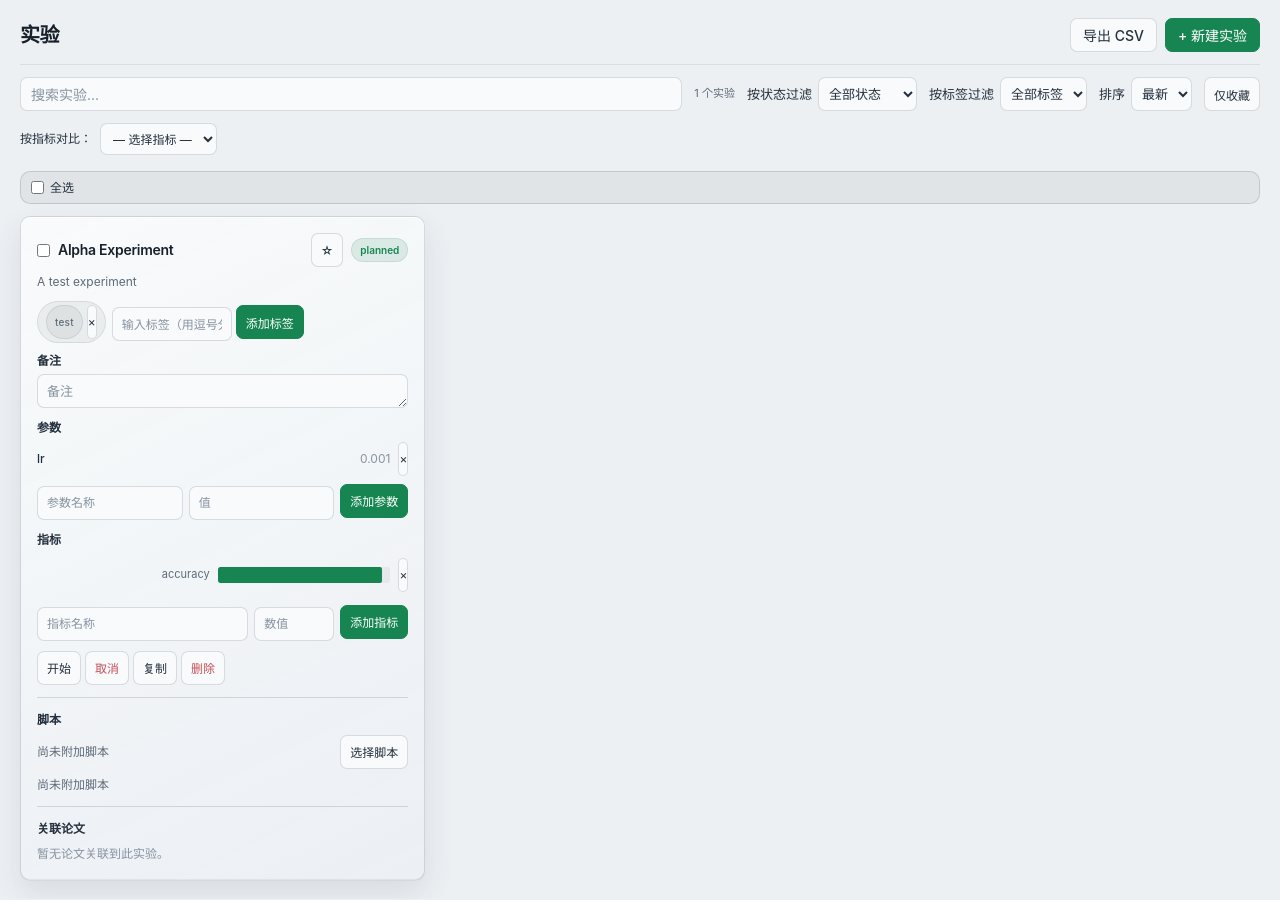
it: ExperimentsPage › should clear the experiments filters from the empty state
Type "ZZZ" into the field with placeholder "搜索实验...".
click(351, 94); type("ZZZ")  # box [20, 77, 682, 111]
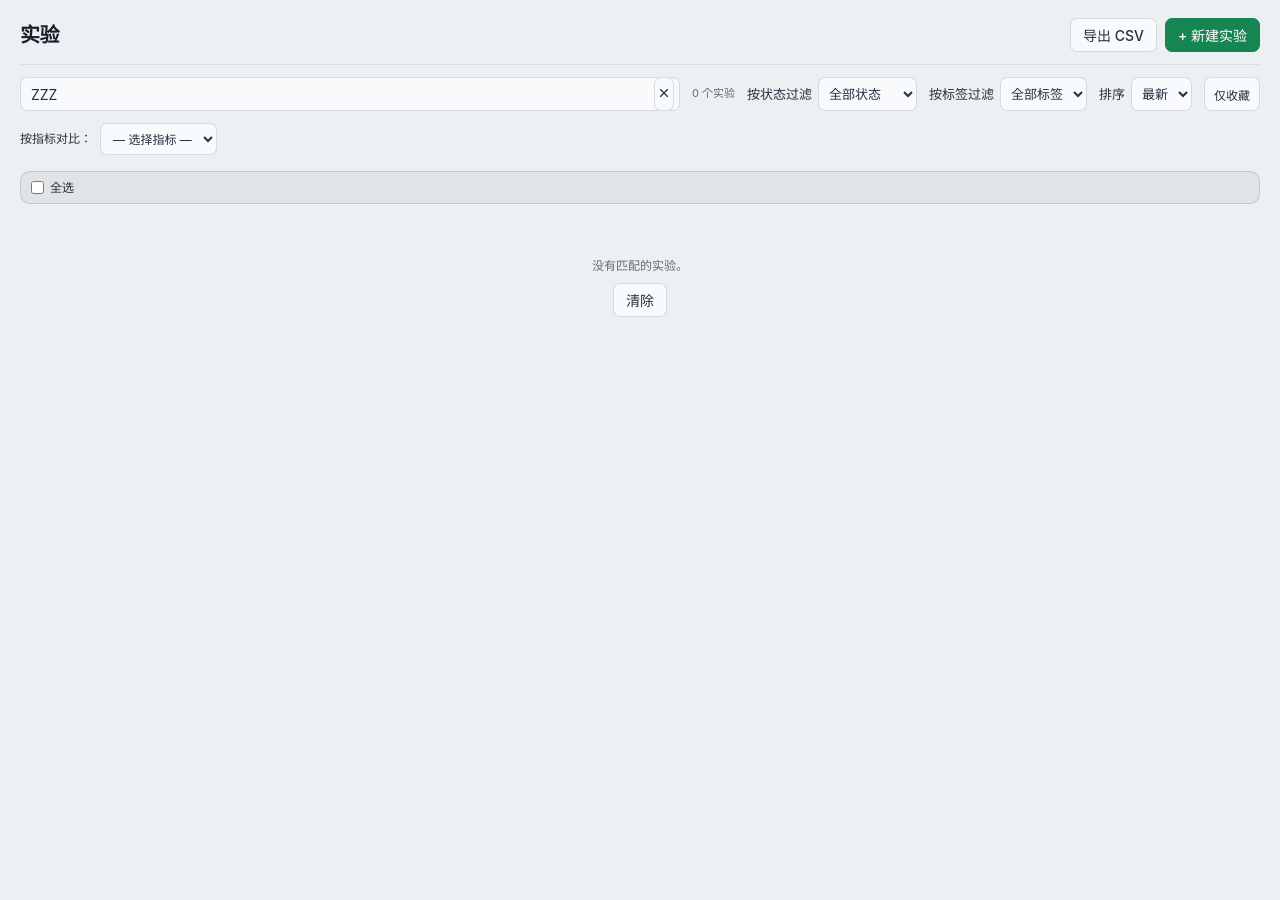
Now the text "没有匹配的实验。" is shown, box [592, 258, 688, 273]
Click the button "清除".
click(640, 300)  # box [613, 283, 667, 317]
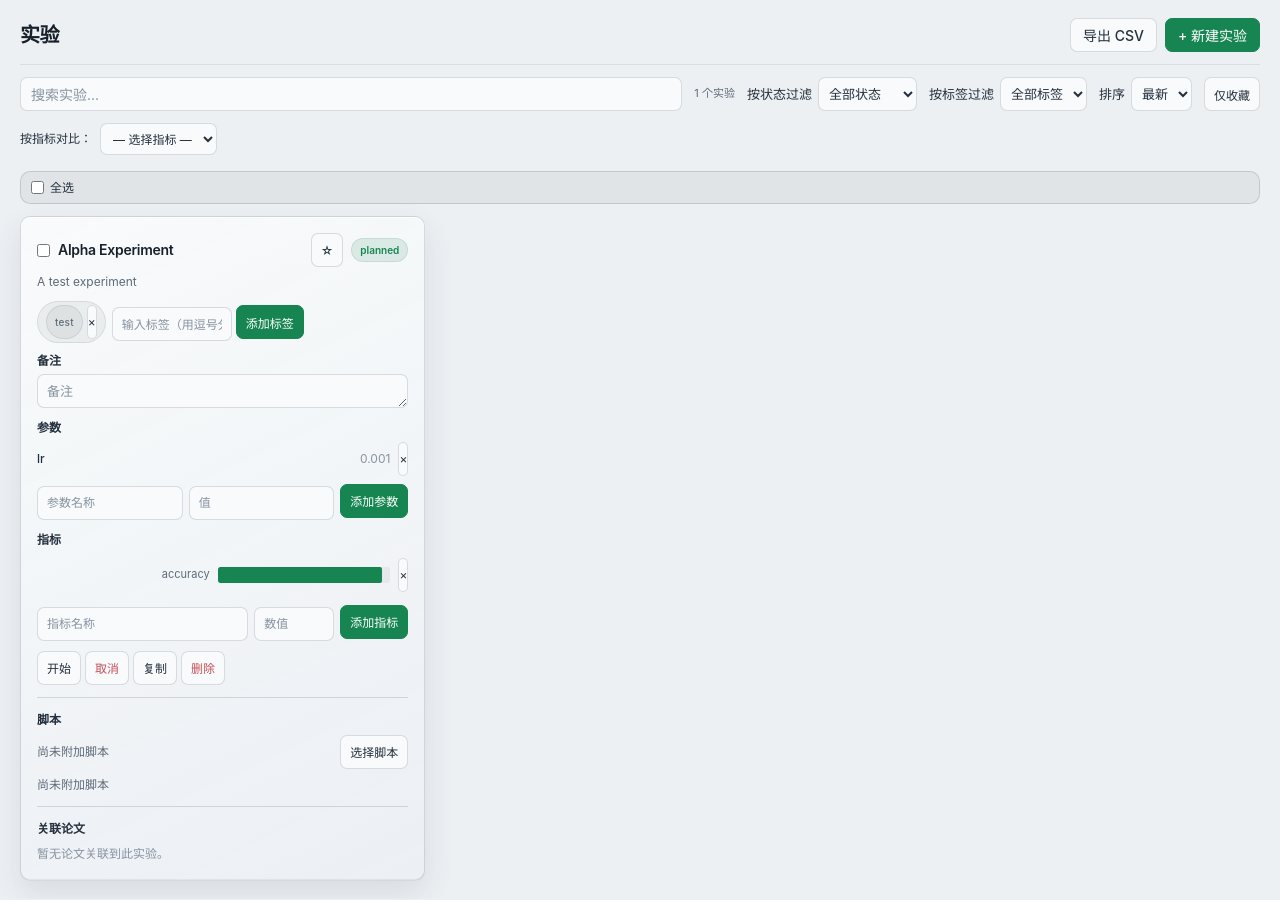
Now the field with placeholder "搜索实验..." is empty, box [20, 77, 682, 111]
Now the heading "Alpha Experiment" is shown, box [58, 241, 173, 258]
